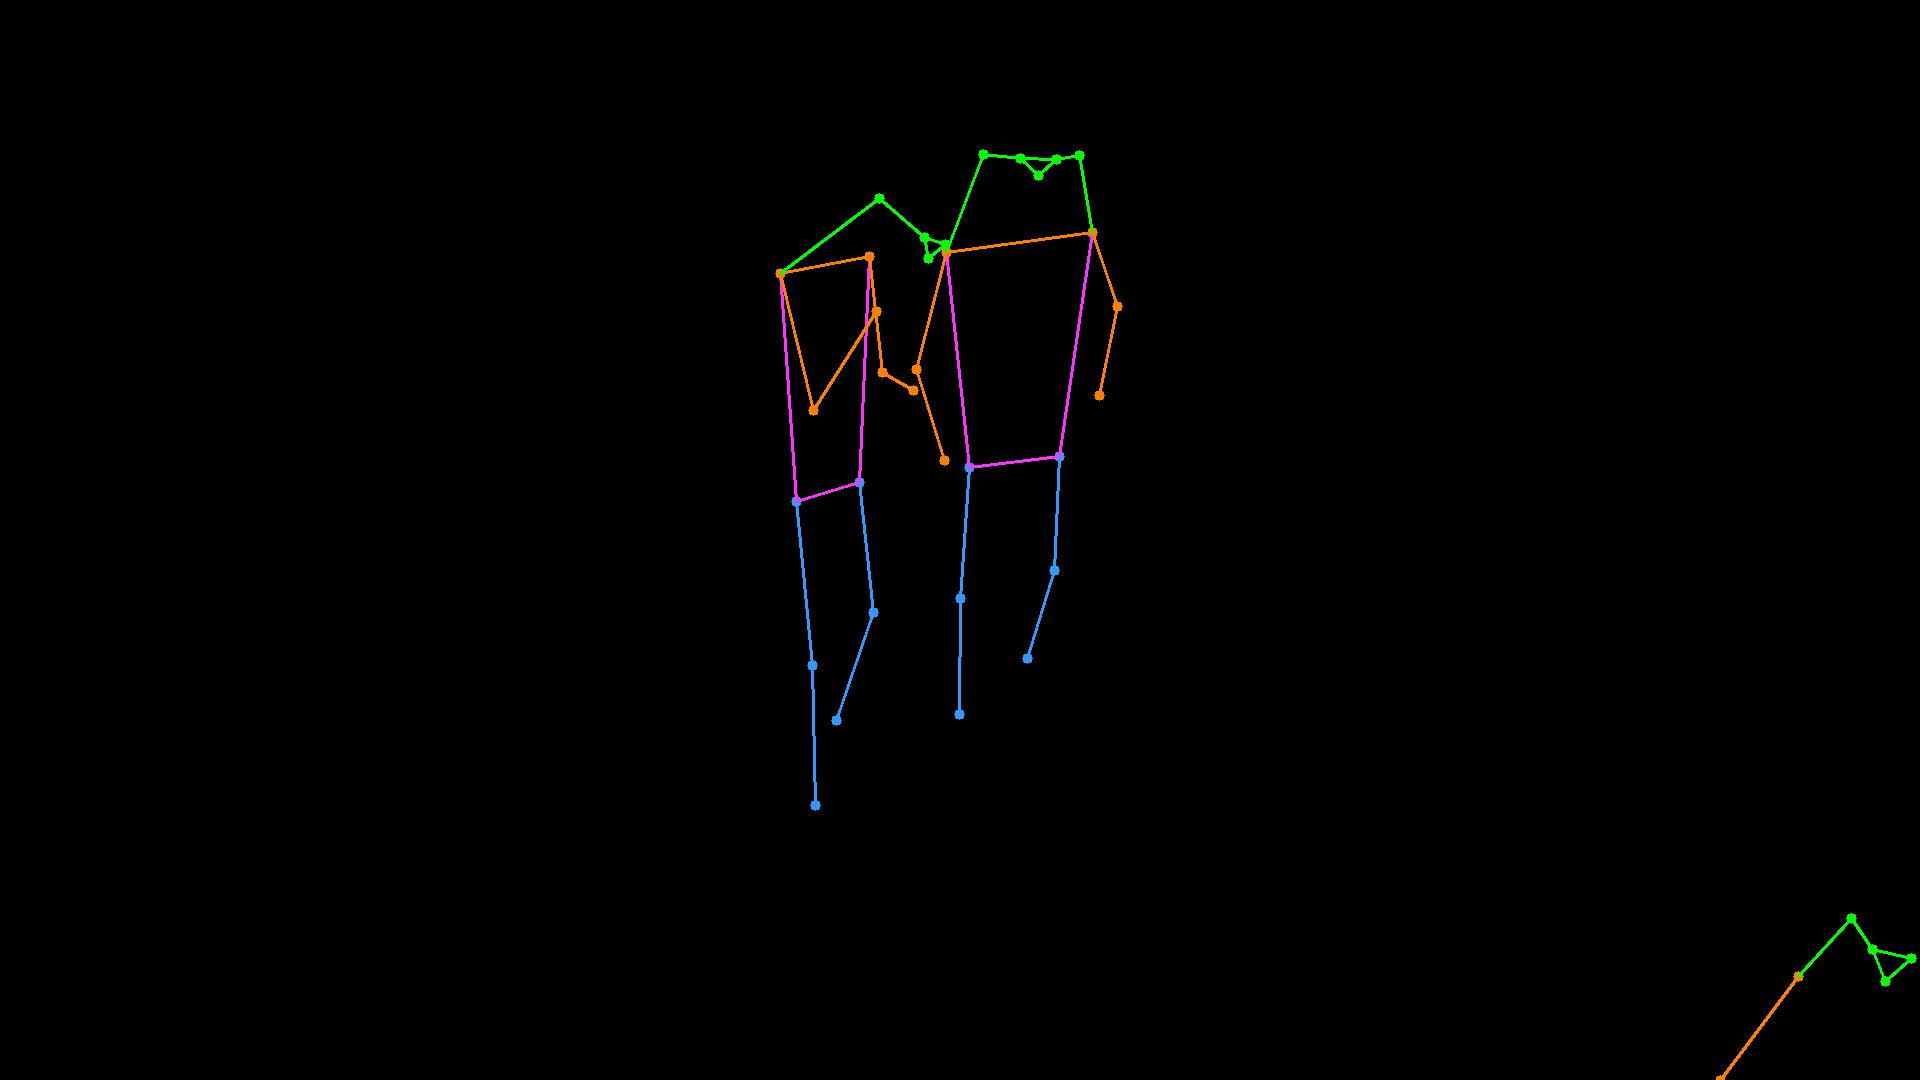normal: (695, 113, 1182, 894)
